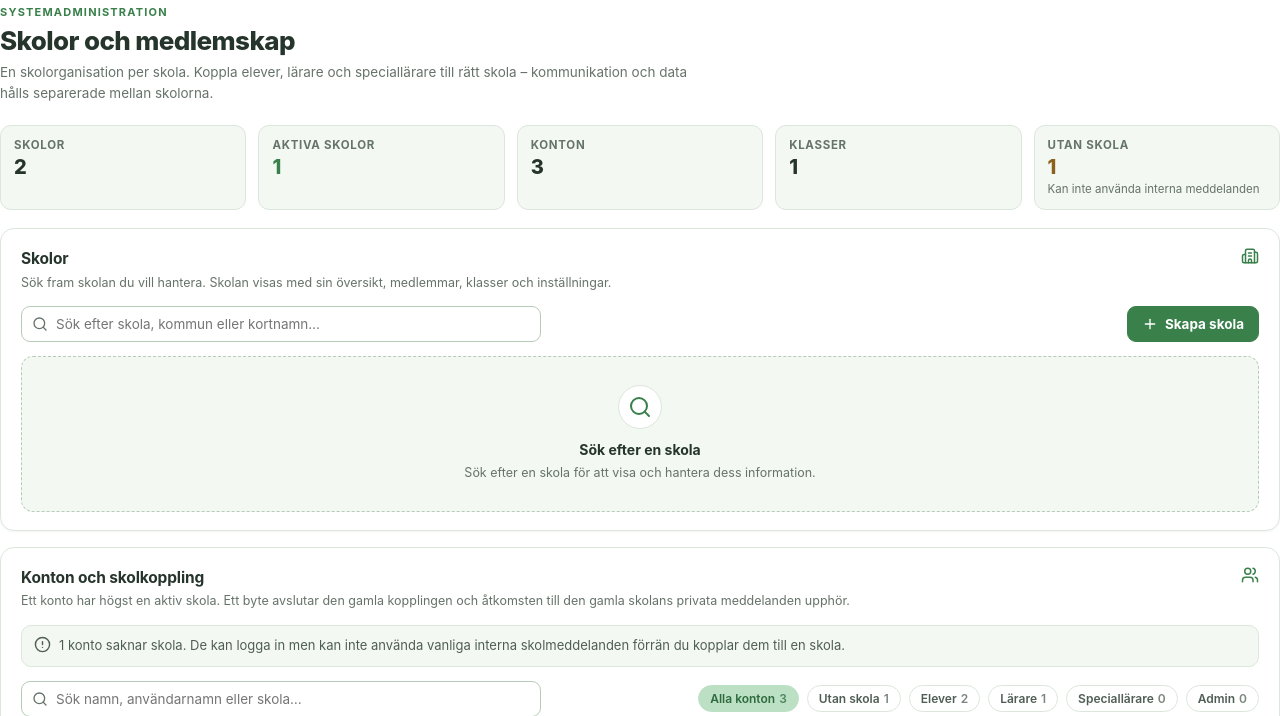
Test: AdminOrganisations › visar skolans detaljer med flikar först när skolan öppnas
Expected: the heading "Sök efter en skola" is shown, [579,441,701,458]
Type "ronneby" into the search field named "Sök skola" at coordinates (293, 324), box [56,307,530,341]
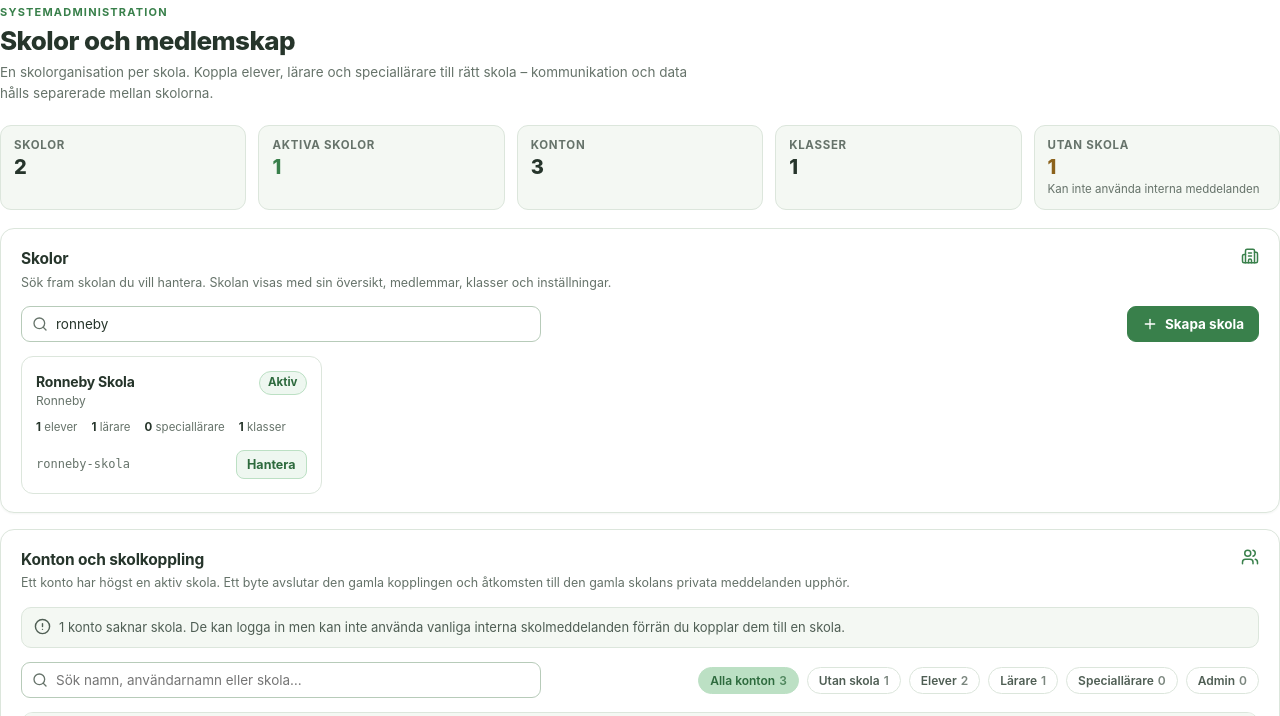
Click the button "Hantera" at coordinates (271, 464), box [236,450,306,479]
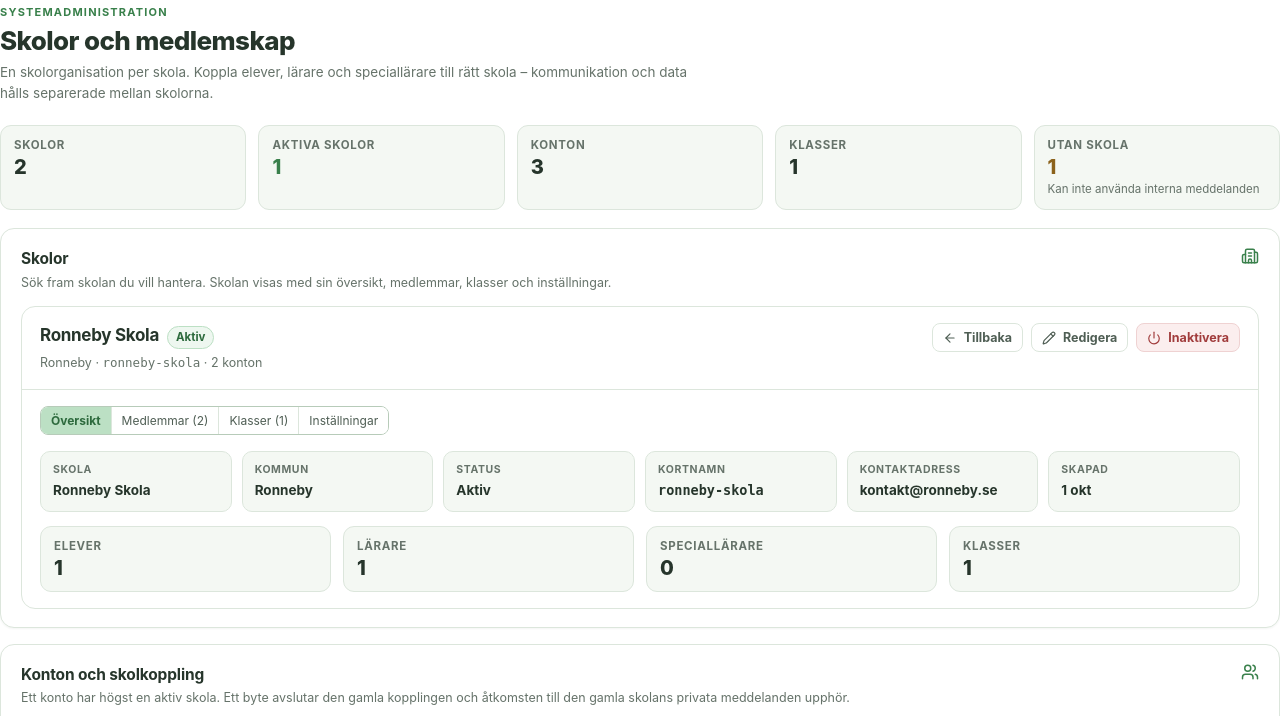
Expected: the tab "Medlemmar (2)" is shown
Expected: the text "kontakt@ronneby.se" is shown, [860,482,998,498]
Click the tab "Medlemmar (2)" at coordinates (166, 420), box [112,407,219,434]
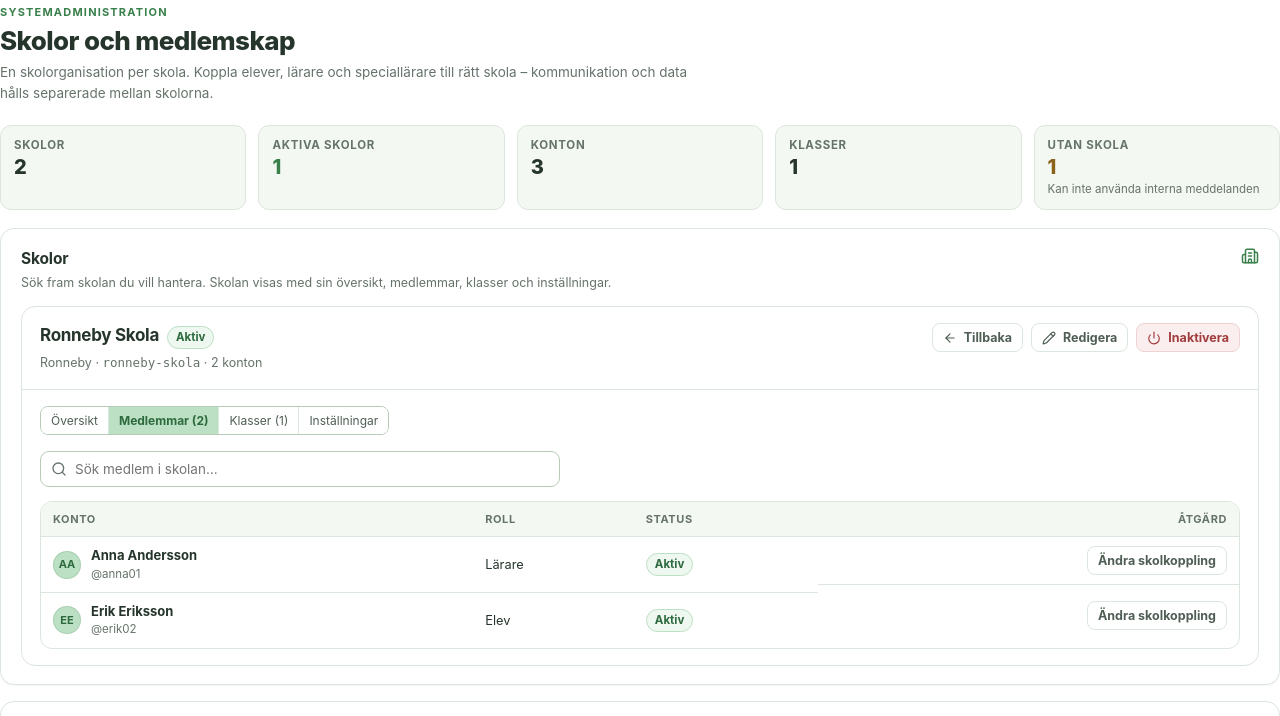
Expected: the text "Anna Andersson" is shown, [91,546,197,566]
Click the tab "Klasser (1)" at coordinates (259, 420), box [220,407,299,434]
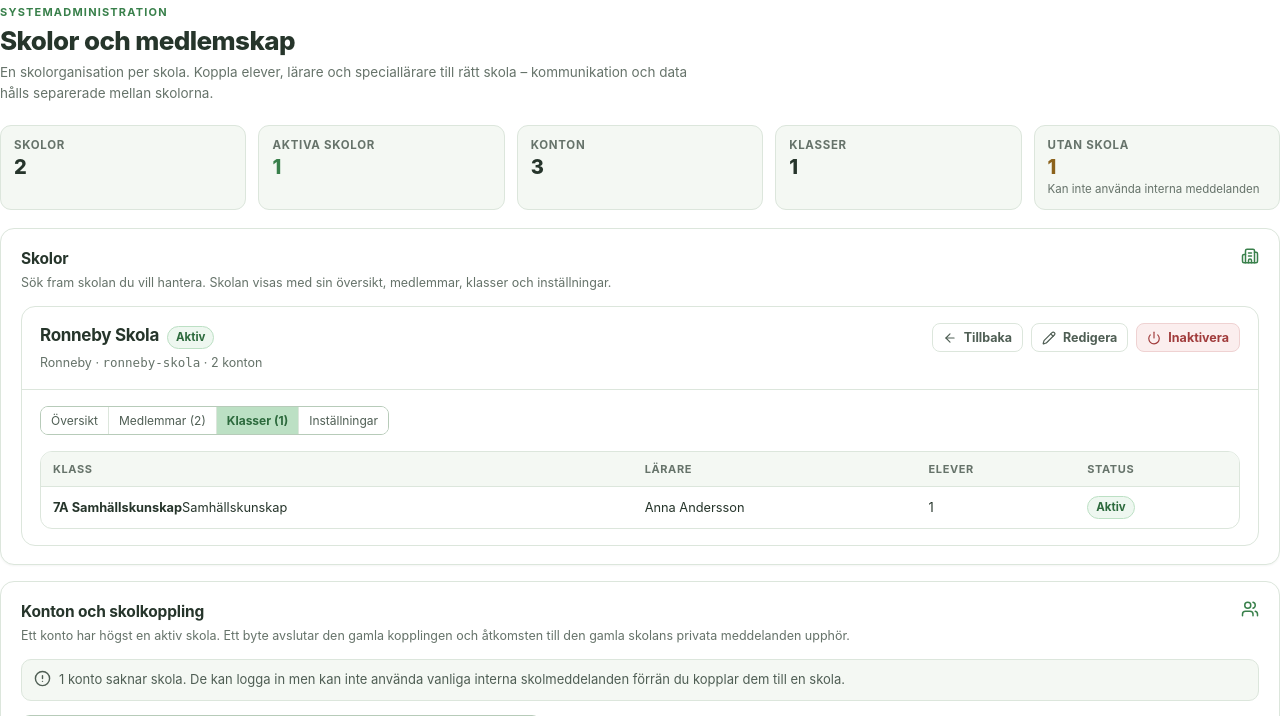
Expected: the text "7A Samhällskunskap" is shown, [53,500,182,515]
Click the tab "Inställningar" at coordinates (344, 420), box [299,407,388,434]
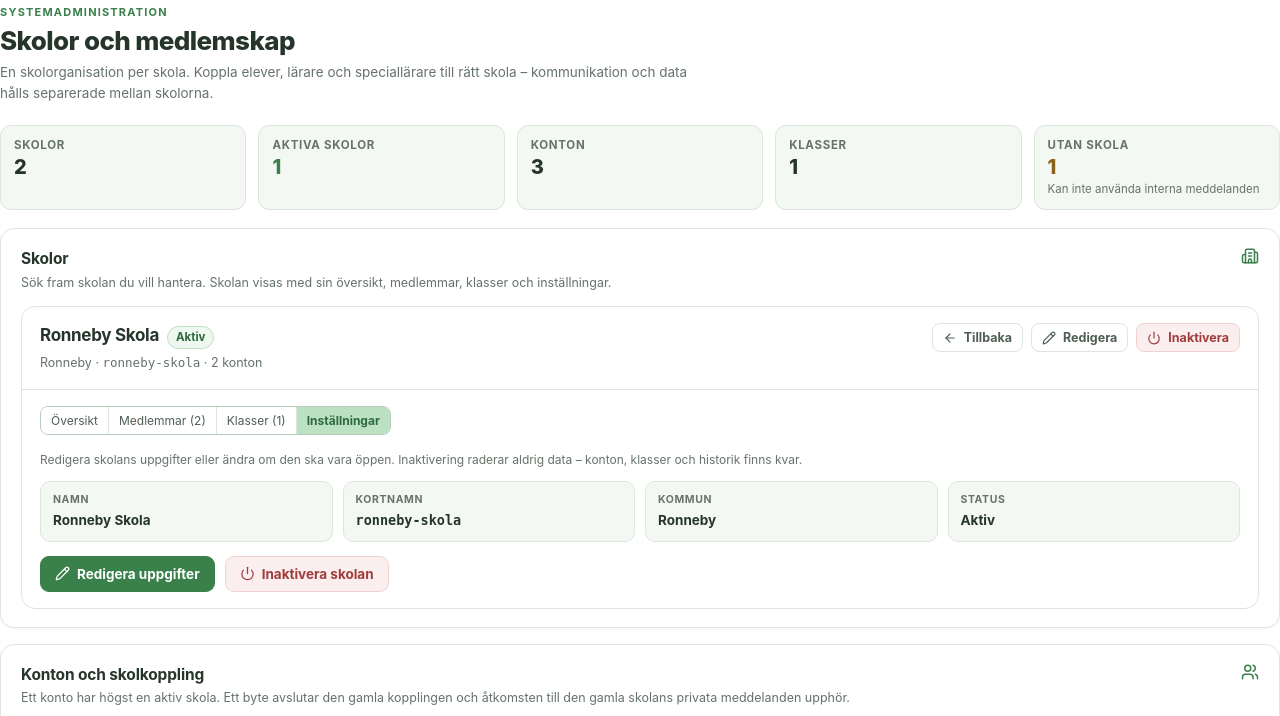
Expected: the button "Inaktivera skolan" is shown, [225,556,389,592]
